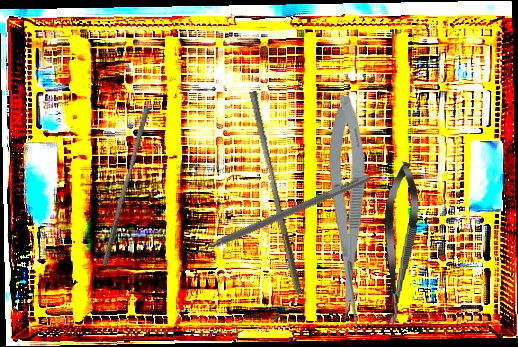Micro Scissor: (327, 95, 366, 326), (375, 160, 423, 331)
Pusher: (241, 90, 311, 296), (101, 105, 151, 268)
Spatula Surgical: (178, 165, 372, 264)
